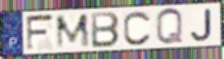B: (90, 11, 121, 50)
C: (122, 10, 153, 47)
F: (25, 12, 57, 53)
J: (190, 8, 214, 44)
M: (54, 12, 92, 50)
Q: (155, 7, 185, 47)
